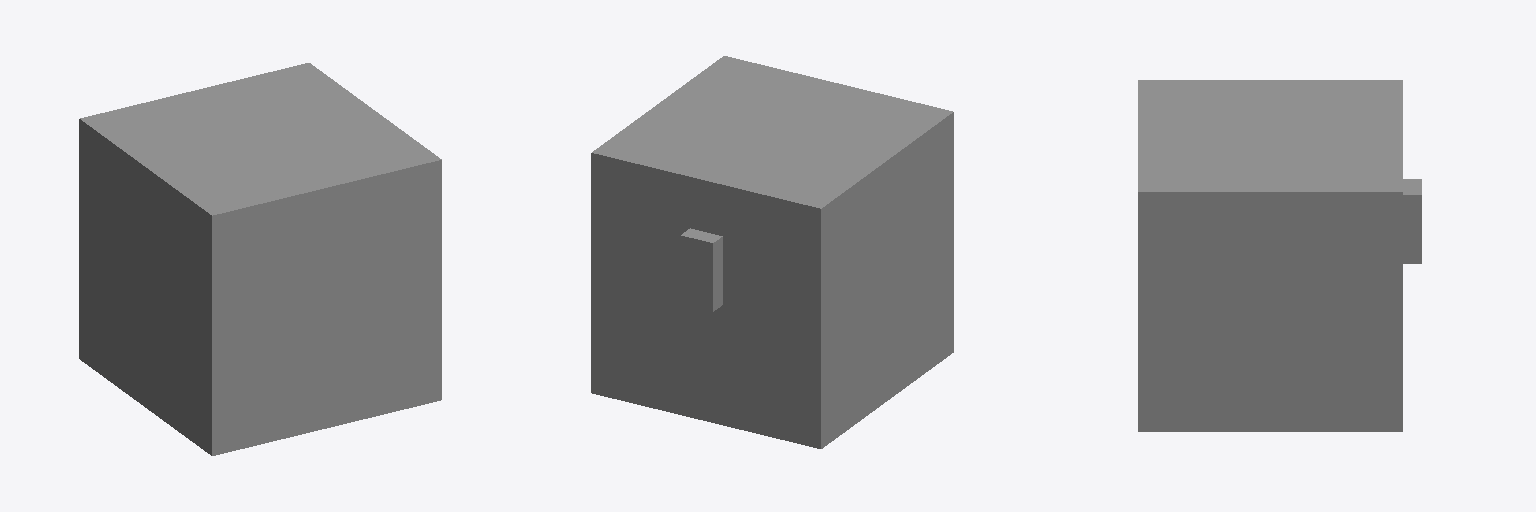
The model's file is chest.obj.
3 views of the same model, side by side, from view 1: azimuth 30°, elevation 25°; view 2: azimuth 150°, elevation 25°; view 3: azimuth 270°, elevation 25° (orthographic).
Parts seen in each view (by area): view 1: chest; view 2: chest; view 3: chest.
Part boxes in pixels (x1,y1,x2,y2): chest: (79,63,441,455); chest: (591,56,953,448); chest: (1138,80,1421,431).
Bounding box in the file's own units: 0.875 × 0.875 × 0.9375.